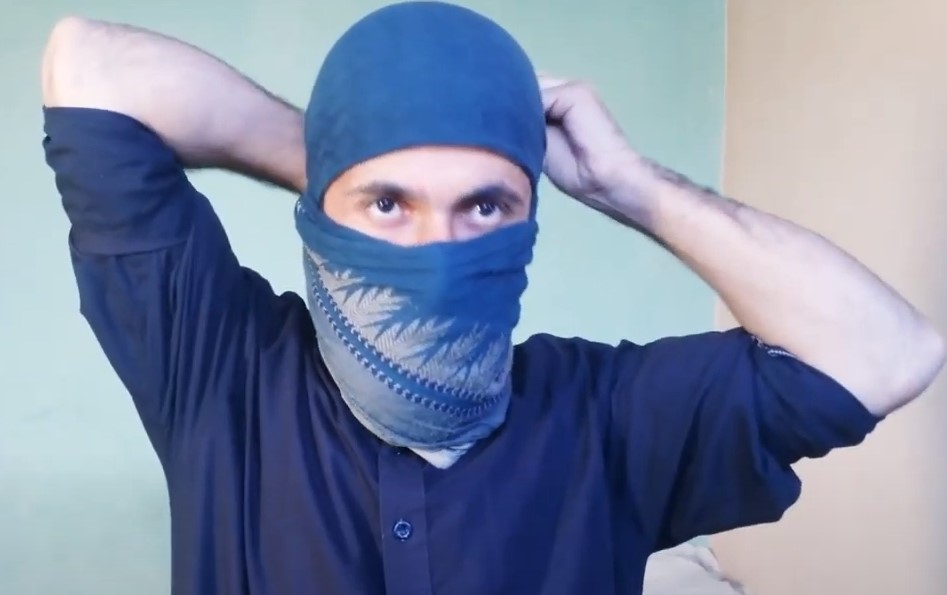face_with_mask: (302, 16, 538, 402)
